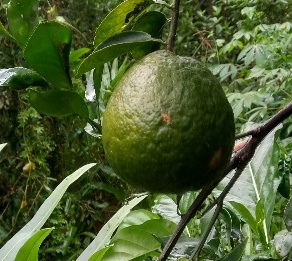Cam: (96, 48, 236, 192)
